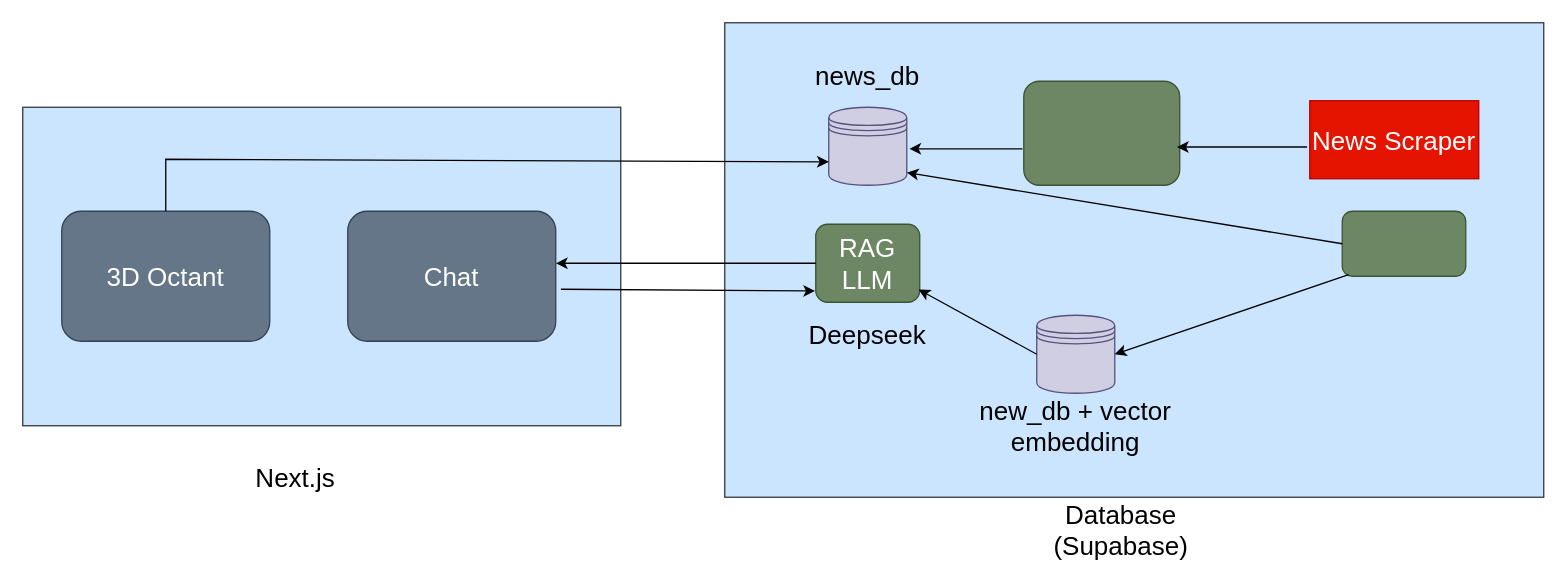
This 1567x584 diagram has some shape labels left out. The shapes that lost their labels are listed below. From the top down, each one's centre as x and y in pixels, then its label:
At (x=1101, y=132): "Classifier Roberta Model".
At (x=1403, y=243): "Embedder Script".
